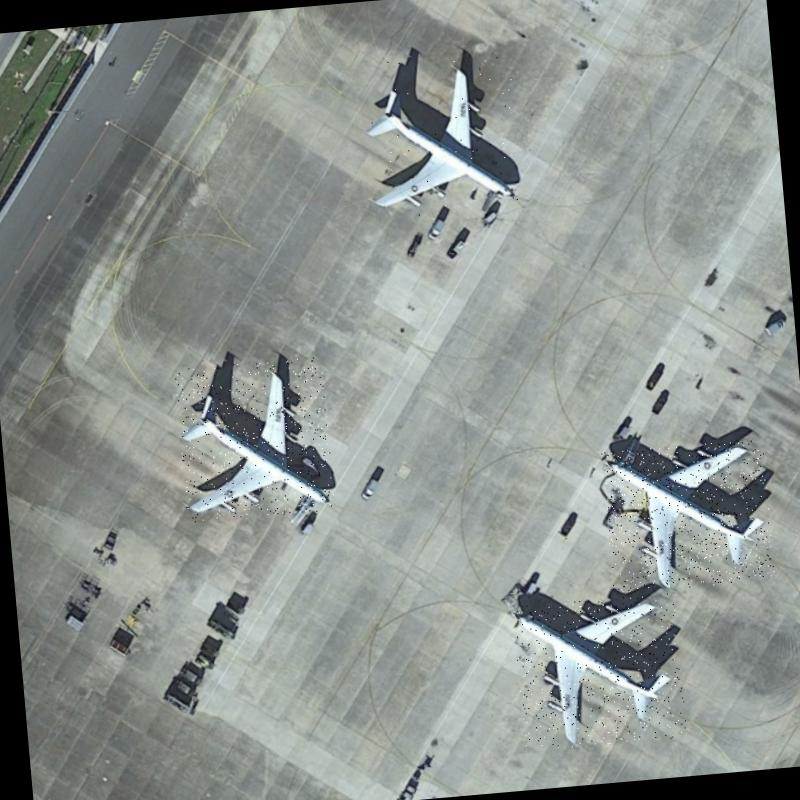A11: (362, 50, 524, 226), (512, 592, 688, 752), (601, 438, 775, 594), (174, 357, 336, 523)
